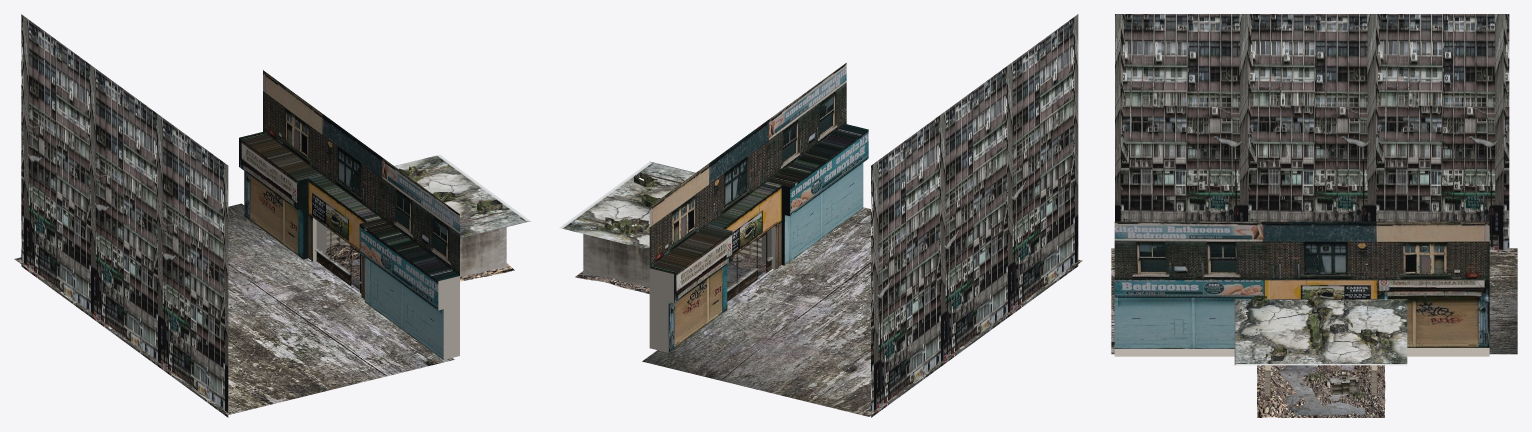
File: store.glb
3 renders of one model, left to right at view 1: azimuth 30°, elevation 25°; view 2: azimuth 150°, elevation 25°; view 3: azimuth 270°, elevation 25°, orthographic. The views are drawn at different scales.
Parts seen in each view (by area): view 1: Plane.038, Plane.037, Plane.036, Plane, Cube, Plane.001; view 2: Plane.038, Plane.037, Plane.036, Plane, Cube, Plane.001; view 3: Plane.038, Plane.037, Plane, Plane.001, Plane.036, Cube, node_0_Material.009_0.
Part boxes in pixels (<box>): Plane.038: <box>21,14,228,417</box>; Plane.037: <box>239,70,459,359</box>; Plane.036: <box>14,203,454,415</box>; Plane: <box>394,155,530,238</box>; Cube: <box>311,166,506,299</box>; Plane.001: <box>324,244,514,281</box>; Plane.038: <box>871,14,1078,417</box>; Plane.037: <box>649,63,868,352</box>; Plane.036: <box>642,207,1082,416</box>; Plane: <box>559,161,695,249</box>; Cube: <box>583,173,778,301</box>; Plane.001: <box>575,253,766,294</box>; Plane.038: <box>1115,14,1509,249</box>; Plane.037: <box>1114,221,1489,356</box>; Plane: <box>1234,295,1407,365</box>; Plane.001: <box>1257,352,1385,417</box>; Plane.036: <box>1111,248,1517,354</box>; Cube: <box>1267,299,1378,415</box>; node_0_Material.009_0: <box>1329,370,1358,394</box>.
Size of the model in its own units: 30.57 by 20.02 by 30.7.
Materials: 12 (12 with a texture image).
